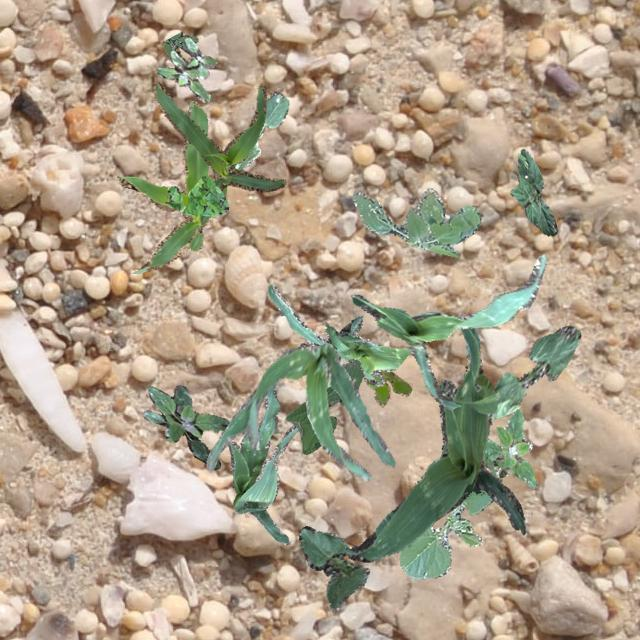crop: (344, 310, 524, 560), (350, 254, 546, 408), (205, 342, 394, 479), (117, 100, 225, 272), (266, 284, 409, 386), (152, 81, 284, 190), (228, 382, 298, 544), (399, 467, 499, 578), (490, 324, 580, 418), (284, 358, 362, 454), (297, 524, 368, 610), (232, 90, 288, 170), (508, 148, 556, 235)
weed: (352, 188, 479, 256), (142, 384, 228, 468), (482, 408, 538, 488), (156, 36, 216, 102), (165, 176, 228, 216), (366, 370, 410, 406), (162, 30, 196, 54)
